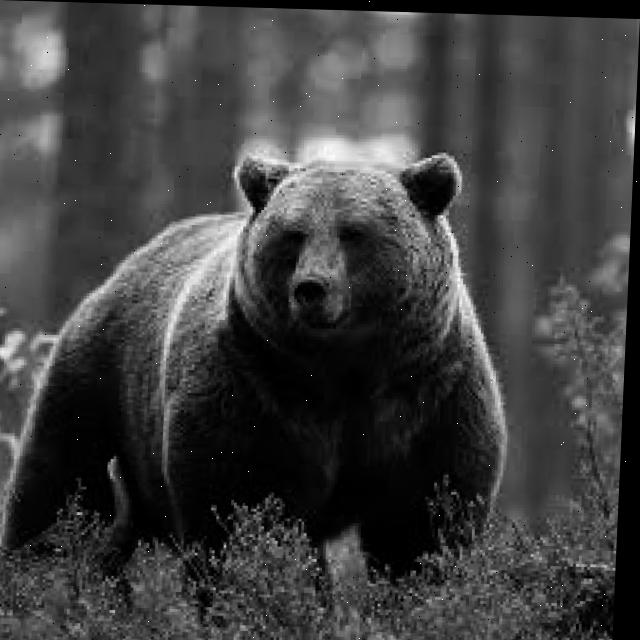Bear: (73, 137, 498, 559)
